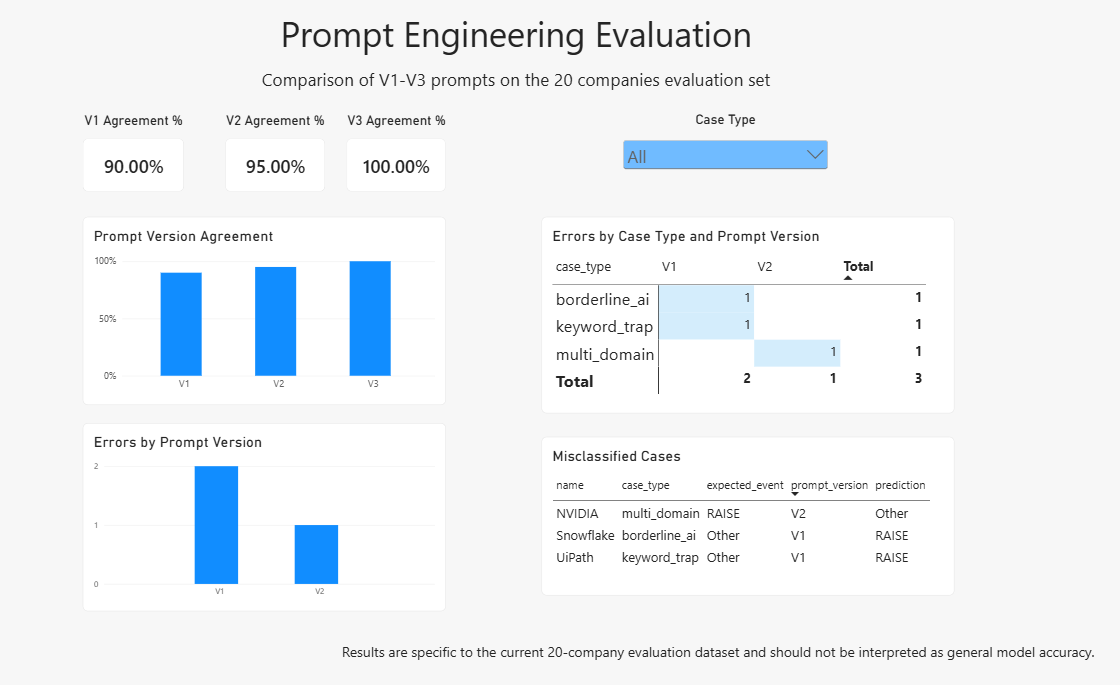

This screenshot's page, from the dashboard's own definition file:
{"tool":"powerbi","page":{"name":"Prompt Evaluation","canvas":[1920,1080],"ordinal":1},"visuals":[{"type":"clusteredColumnChart","title":"Prompt Version Agreement","fields":{"Category":["prompt_evaluation_long.prompt_version"],"Y":["prompt_evaluation_long.Prompt_Accuracy"]},"box":[315,353.3,560,290],"z":0},{"type":"tableEx","title":"Misclassified Cases","fields":{"Values":["prompt_evaluation_long.name","prompt_evaluation_long.case_type","prompt_evaluation_long.expected_event","prompt_evaluation_long.prompt_version","prompt_evaluation_long.prediction"]},"box":[1021.7,691.7,636.7,245],"z":1000},{"type":"columnChart","title":"Errors by Prompt Version","fields":{"Category":["prompt_evaluation_long.prompt_version"],"Y":["prompt_evaluation_long.Prompt Errors"]},"box":[315,670,560,290],"z":2000},{"type":"pivotTable","title":"Errors by Case Type and Prompt Version","fields":{"Columns":["prompt_evaluation_long.prompt_version"],"Rows":["prompt_evaluation_long.case_type"],"Values":["prompt_evaluation_long.Prompt Errors"]},"box":[1021.7,353.3,636.7,303.3],"z":3000},{"type":"textbox","box":[413.3,32,1140,211.7],"z":4000},{"type":"cardVisual","title":"V1 Agreement %","fields":{"Data":["prompt_evaluation_long.V1 Accuracy"]},"box":[315,193.6,156.4,121.4],"z":5000},{"type":"cardVisual","title":"V2 Agreement %","fields":{"Data":["prompt_evaluation_long.V2 Accuracy"]},"box":[533.3,193.3,154,122],"z":6000},{"type":"cardVisual","title":"V3 Agreement %","fields":{"Data":["prompt_evaluation_long.V3 Accuracy"]},"box":[721.4,193.6,153.6,122.1],"z":7000},{"type":"slicer","title":"Case Type","fields":{"Values":["prompt_evaluation_long.case_type"]},"box":[1143.3,191.7,325,96.7],"z":8000},{"type":"textbox","box":[686.7,1008.3,1188.3,71.7],"z":9000}]}

Visuals, with their boxes on the page's 1920x1080 design canvas (x1, y1, x2, y2). These are canvas units, not pixel positions in the 1120x685 screenshot, which may show the page scaled, cropped or inside an application window:
"Prompt Version Agreement" clusteredColumnChart: {"left": 315, "top": 353, "right": 875, "bottom": 643}
"Misclassified Cases" tableEx: {"left": 1022, "top": 692, "right": 1658, "bottom": 937}
"Errors by Prompt Version" columnChart: {"left": 315, "top": 670, "right": 875, "bottom": 960}
"Errors by Case Type and Prompt Version" pivotTable: {"left": 1022, "top": 353, "right": 1658, "bottom": 657}
textbox: {"left": 413, "top": 32, "right": 1553, "bottom": 244}
"V1 Agreement %" cardVisual: {"left": 315, "top": 194, "right": 471, "bottom": 315}
"V2 Agreement %" cardVisual: {"left": 533, "top": 193, "right": 687, "bottom": 315}
"V3 Agreement %" cardVisual: {"left": 721, "top": 194, "right": 875, "bottom": 316}
"Case Type" slicer: {"left": 1143, "top": 192, "right": 1468, "bottom": 288}
textbox: {"left": 687, "top": 1008, "right": 1875, "bottom": 1080}
